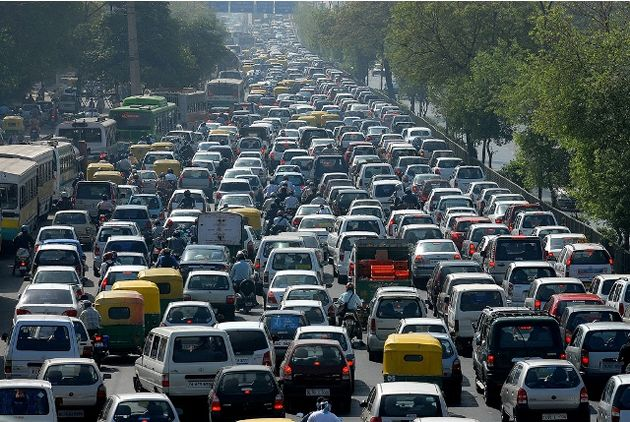bike: (231, 254, 255, 315), (338, 285, 364, 341), (83, 302, 106, 362), (13, 228, 32, 274), (152, 223, 165, 256), (155, 172, 168, 202), (97, 196, 110, 222)
bus: (1, 159, 37, 243), (14, 146, 55, 219), (56, 117, 119, 163), (155, 84, 207, 129), (111, 101, 166, 143), (52, 136, 84, 203), (209, 79, 244, 112)
car: (472, 305, 554, 394), (139, 325, 228, 396), (506, 359, 587, 422), (282, 343, 352, 414), (6, 316, 72, 378), (210, 367, 284, 422), (405, 322, 464, 389), (368, 285, 428, 348), (570, 324, 630, 381), (43, 358, 102, 414), (364, 383, 443, 422), (478, 236, 542, 282), (216, 324, 276, 373), (15, 279, 74, 325), (452, 283, 500, 337), (287, 278, 337, 326), (1, 379, 58, 420), (264, 249, 324, 285), (259, 311, 308, 355), (411, 237, 458, 282), (562, 244, 614, 284), (430, 261, 475, 305), (186, 271, 233, 313), (330, 231, 368, 279), (529, 278, 581, 312), (180, 244, 231, 278), (53, 210, 96, 249), (38, 247, 82, 284), (506, 262, 548, 300), (465, 222, 504, 260), (599, 376, 630, 422), (514, 208, 556, 240), (96, 224, 127, 267), (254, 234, 294, 267), (334, 213, 384, 236), (114, 205, 148, 238), (215, 180, 252, 208), (427, 190, 458, 222), (169, 190, 207, 216), (373, 181, 404, 211), (490, 197, 518, 230), (609, 279, 630, 323), (181, 168, 213, 196), (451, 165, 486, 190), (315, 153, 344, 183), (432, 153, 462, 180), (266, 269, 286, 308), (237, 157, 268, 182), (362, 166, 394, 190), (192, 151, 223, 174), (208, 131, 237, 154), (338, 192, 368, 214), (130, 170, 157, 192), (237, 135, 264, 157), (341, 129, 368, 151), (405, 126, 430, 147), (390, 211, 413, 232), (58, 92, 79, 114), (413, 173, 433, 195), (282, 149, 305, 168), (271, 139, 293, 158), (270, 107, 290, 124)
rickshaw: (97, 291, 145, 356), (384, 336, 441, 384), (115, 280, 162, 326), (140, 268, 183, 306), (232, 209, 261, 235), (4, 116, 26, 140), (154, 159, 179, 179)
